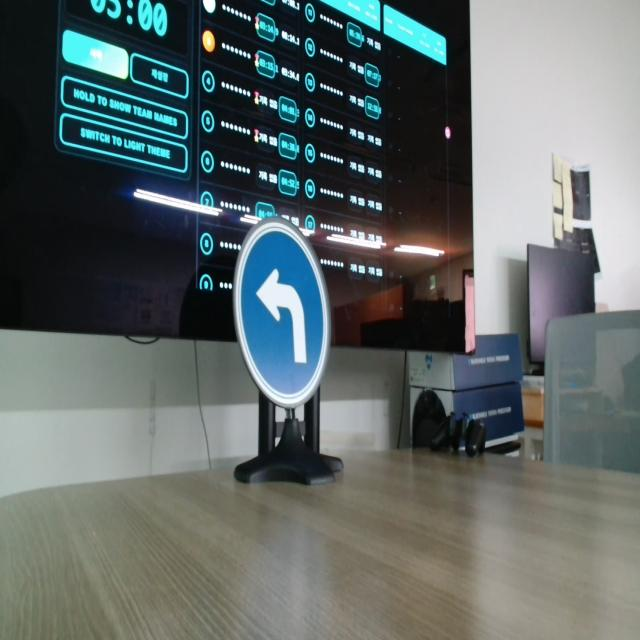left_direction: (231, 209, 334, 410)
